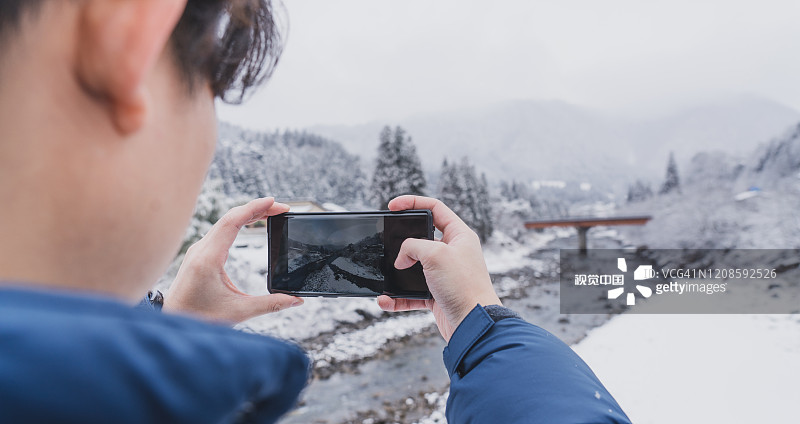taking photos: (145, 185, 516, 341)
